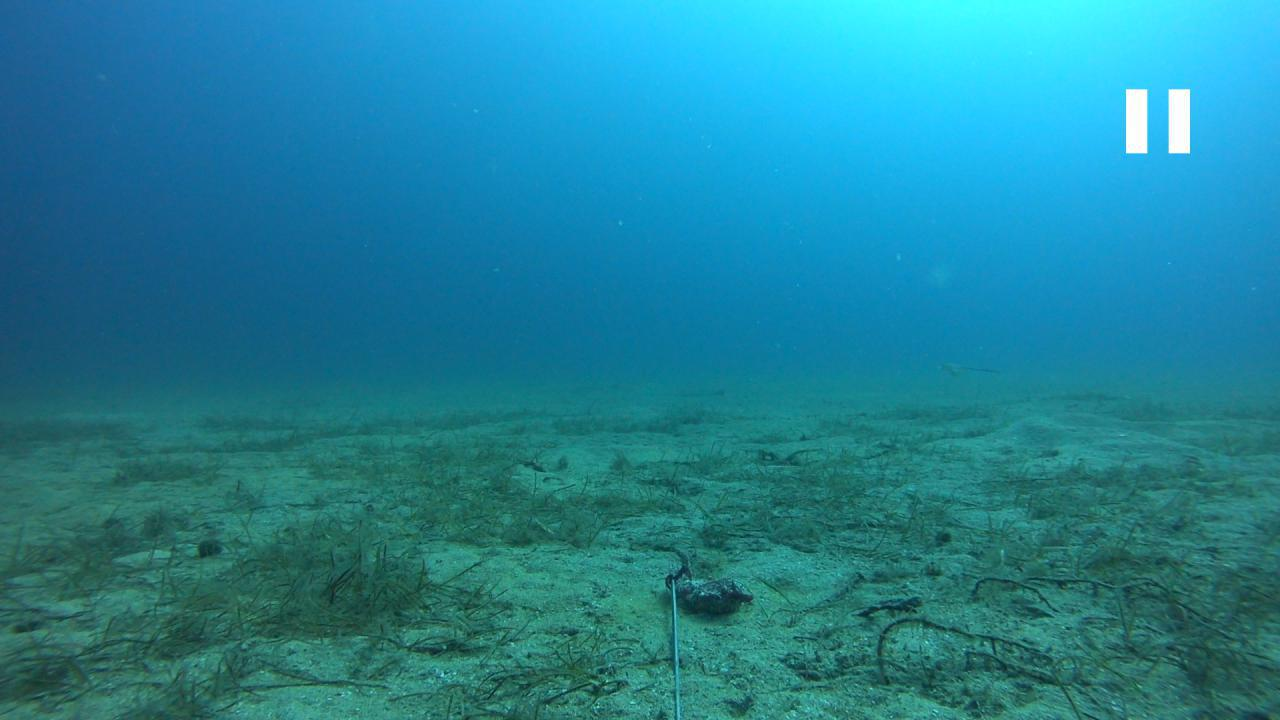dasyatis: (936, 359, 1000, 375)
